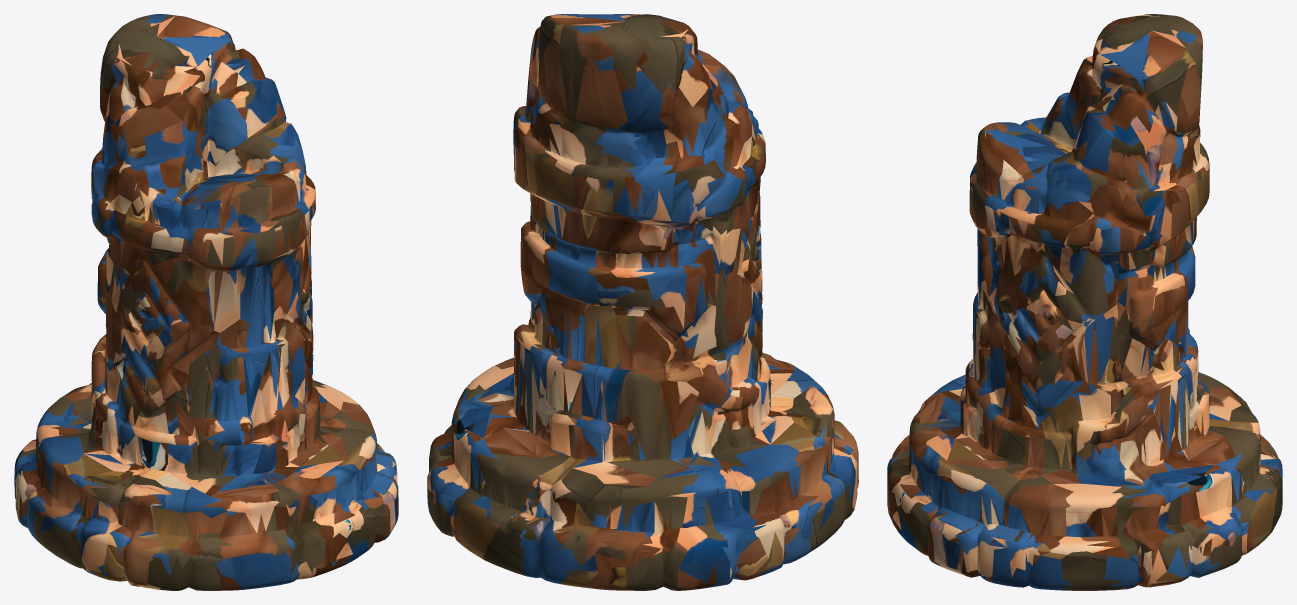
Rendered from VD_Prop_BrokenTotem_01_LOD1.fbx.
The picture shows the model from 3 angles, left to right: view 1: azimuth 30°, elevation 25°; view 2: azimuth 150°, elevation 25°; view 3: azimuth 270°, elevation 25°; orthographic projection. The views are drawn at different scales.
Parts seen in each view (by area): view 1: Mesh_0; view 2: Mesh_0; view 3: Mesh_0.
Boxes of the visible parts, x1,y1,x2,y2 form: Mesh_0: (14,14,398,590); Mesh_0: (427,14,858,590); Mesh_0: (887,14,1282,590).
Bounding box in the file's own units: 140 × 190 × 143.
